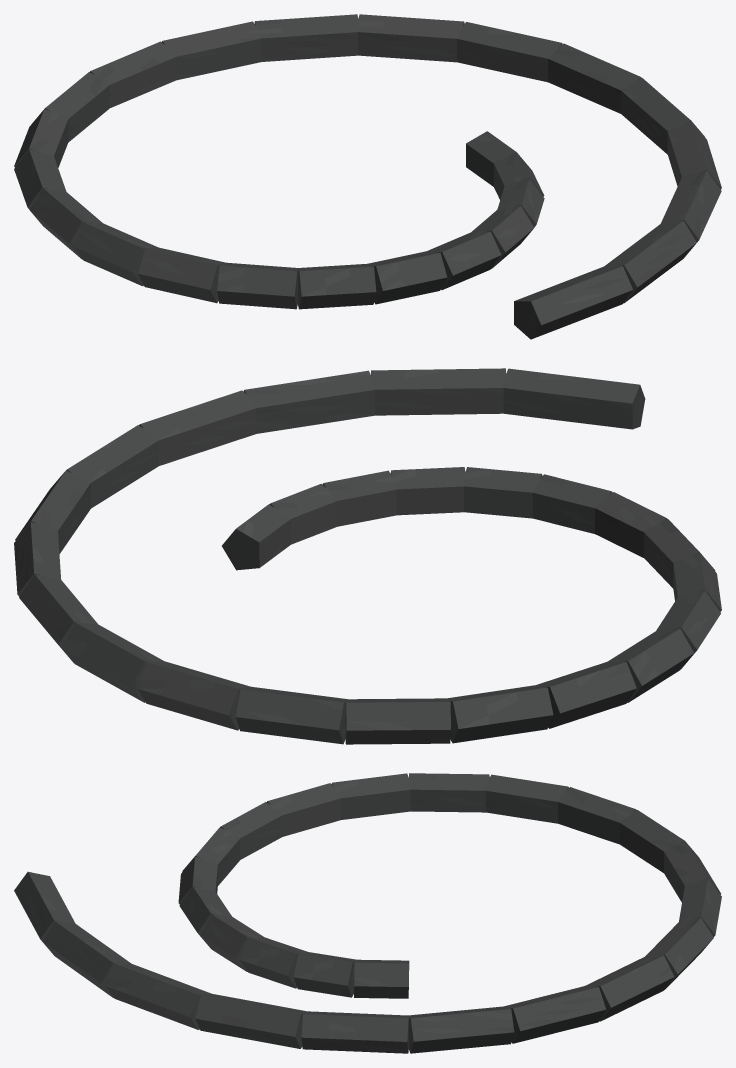
File: cable.glb
3 views of the same model, one above another, from view 1: azimuth 30°, elevation 25°; view 2: azimuth 150°, elevation 25°; view 3: azimuth 270°, elevation 25° (orthographic). The views are drawn at different scales.
Parts seen in each view (by area): view 1: block_coiled length 24, block_coiled length 17, block_coiled length 16, block_coiled length 18, block_coiled length 15, block_coiled length 19, block_coiled length 7, block_coiled length 8, block_coiled length 23, block_coiled length 6, block_coiled length 14, block_coiled length 5 (+13 smaller); view 2: block_coiled length 24, block_coiled length 23, block_coiled length 22, block_coiled length 14, block_coiled length 21, block_coiled length 13, block_coiled length 12, block_coiled length 15, block_coiled length 11, block_coiled length 16, block_coiled length 20, block_coiled length 4 (+13 smaller); view 3: block_coiled length 20, block_coiled length 21, block_coiled length 19, block_coiled length 22, block_coiled length 18, block_coiled length 10, block_coiled length 23, block_coiled length 11, block_coiled length 17, block_coiled length 9, block_coiled length 12, block_coiled length 8 (+13 smaller).
Boxes of the visible parts, x1=… form: block_coiled length 24: x1=514, y1=266, x2=632, y2=339; block_coiled length 17: x1=357, y1=14, x2=464, y2=62; block_coiled length 16: x1=254, y1=14, x2=358, y2=61; block_coiled length 18: x1=457, y1=22, x2=562, y2=82; block_coiled length 15: x1=162, y1=21, x2=261, y2=80; block_coiled length 19: x1=548, y1=43, x2=641, y2=113; block_coiled length 7: x1=217, y1=262, x2=298, y2=309; block_coiled length 8: x1=138, y1=247, x2=225, y2=303; block_coiled length 23: x1=604, y1=220, x2=696, y2=303; block_coiled length 6: x1=297, y1=263, x2=376, y2=309; block_coiled length 14: x1=90, y1=41, x2=175, y2=107; block_coiled length 5: x1=368, y1=251, x2=447, y2=304; block_coiled length 24: x1=503, y1=368, x2=645, y2=429; block_coiled length 23: x1=371, y1=368, x2=505, y2=415; block_coiled length 22: x1=243, y1=370, x2=374, y2=433; block_coiled length 14: x1=236, y1=686, x2=347, y2=744; block_coiled length 21: x1=139, y1=390, x2=256, y2=465; block_coiled length 13: x1=345, y1=698, x2=450, y2=744; block_coiled length 12: x1=447, y1=685, x2=553, y2=743; block_coiled length 15: x1=137, y1=661, x2=250, y2=730; block_coiled length 11: x1=536, y1=661, x2=636, y2=728; block_coiled length 16: x1=62, y1=622, x2=163, y2=702; block_coiled length 20: x1=66, y1=425, x2=158, y2=508; block_coiled length 4: x1=463, y1=467, x2=542, y2=518; block_coiled length 20: x1=301, y1=1011, x2=408, y2=1053; block_coiled length 21: x1=195, y1=994, x2=306, y2=1048; block_coiled length 19: x1=408, y1=1006, x2=514, y2=1053; block_coiled length 22: x1=105, y1=963, x2=211, y2=1029; block_coiled length 18: x1=504, y1=986, x2=606, y2=1043; block_coiled length 10: x1=409, y1=773, x2=489, y2=812; block_coiled length 23: x1=42, y1=921, x2=131, y2=997; block_coiled length 11: x1=485, y1=774, x2=568, y2=823; block_coiled length 17: x1=585, y1=955, x2=674, y2=1021; block_coiled length 9: x1=331, y1=773, x2=410, y2=819; block_coiled length 12: x1=557, y1=787, x2=636, y2=844; block_coiled length 8: x1=267, y1=783, x2=340, y2=836.
Size of the model in its own units: 0.2652 by 0.0252 by 0.3.
Materials: 1 (1 with a texture image).
